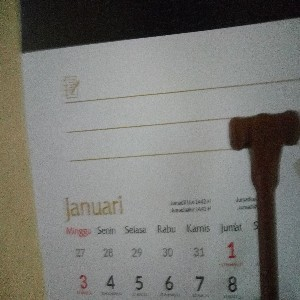palu: (228, 109, 300, 300)
